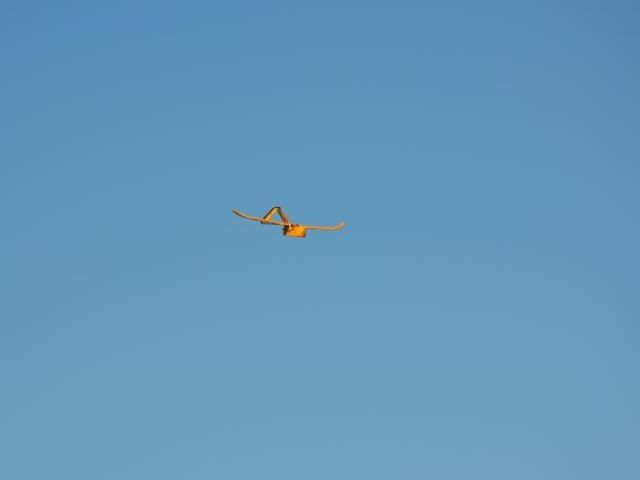iha: (229, 198, 352, 245)
